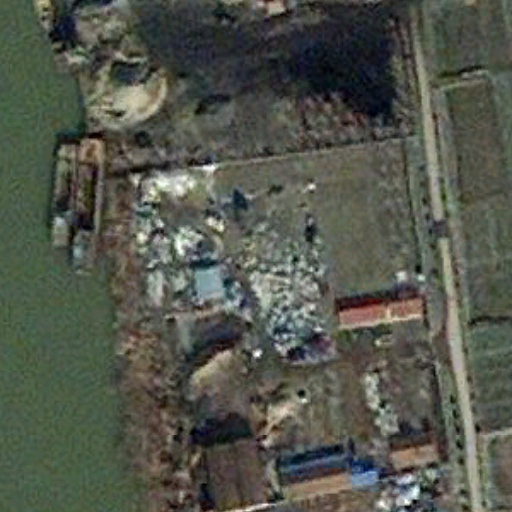msw: (237, 247, 338, 356)
